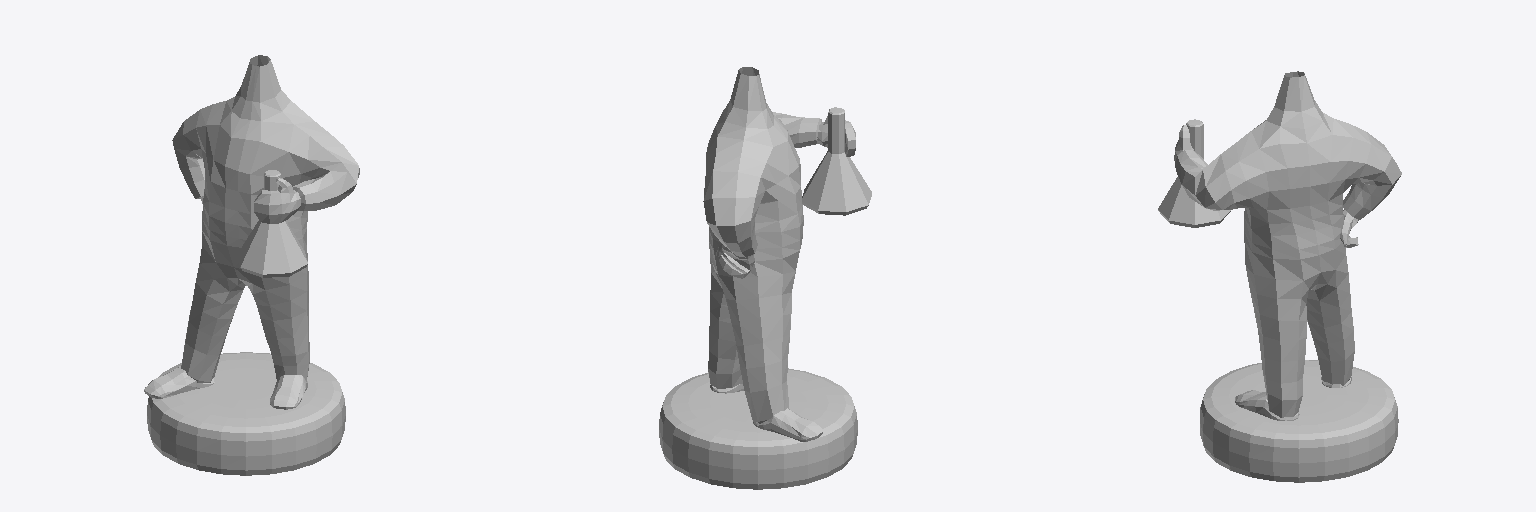
Rendered from Bobble_Body.obj.
3 renders of one model, left to right at view 1: azimuth 30°, elevation 25°; view 2: azimuth 150°, elevation 25°; view 3: azimuth 270°, elevation 25°, orthographic.
Parts seen in each view (by area): view 1: Science_Bobble001; view 2: Science_Bobble001; view 3: Science_Bobble001.
Boxes of the visible parts, x1,y1,x2,y2 form: Science_Bobble001: [144, 55, 359, 475]; Science_Bobble001: [659, 67, 871, 489]; Science_Bobble001: [1158, 71, 1401, 482].
Size of the model in its own units: 5.67 by 11.86 by 6.98.